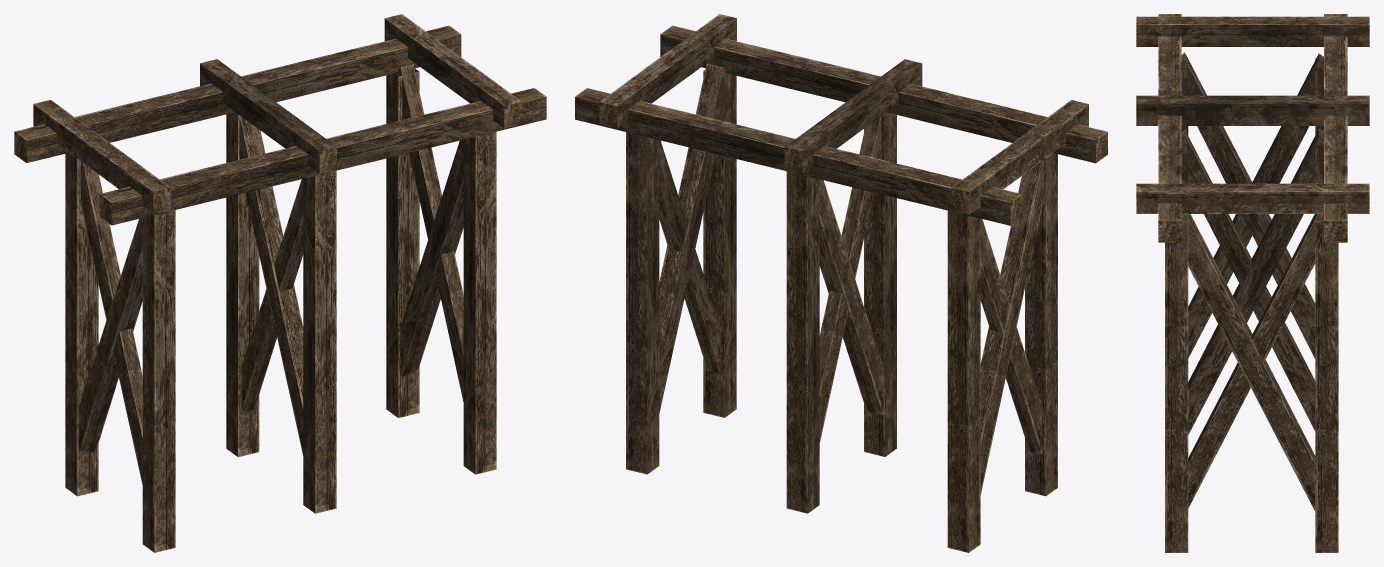
Rendered from WoodBridgeExtension.dae.
The picture shows the model from 3 angles, left to right: view 1: azimuth 30°, elevation 25°; view 2: azimuth 150°, elevation 25°; view 3: azimuth 270°, elevation 25°; orthographic projection. The views are drawn at different scales.
Visible parts, largest first — view 1: WoodBridgeExtension; view 2: WoodBridgeExtension; view 3: WoodBridgeExtension.
Boxes of the visible parts, left/top/right/bottom form: WoodBridgeExtension: left=14, top=14, right=546, bottom=552; WoodBridgeExtension: left=575, top=14, right=1107, bottom=552; WoodBridgeExtension: left=1136, top=14, right=1369, bottom=552.
Bounding box in the file's own units: 4 × 3.31 × 1.91.
Materials: 1 (1 with a texture image).
